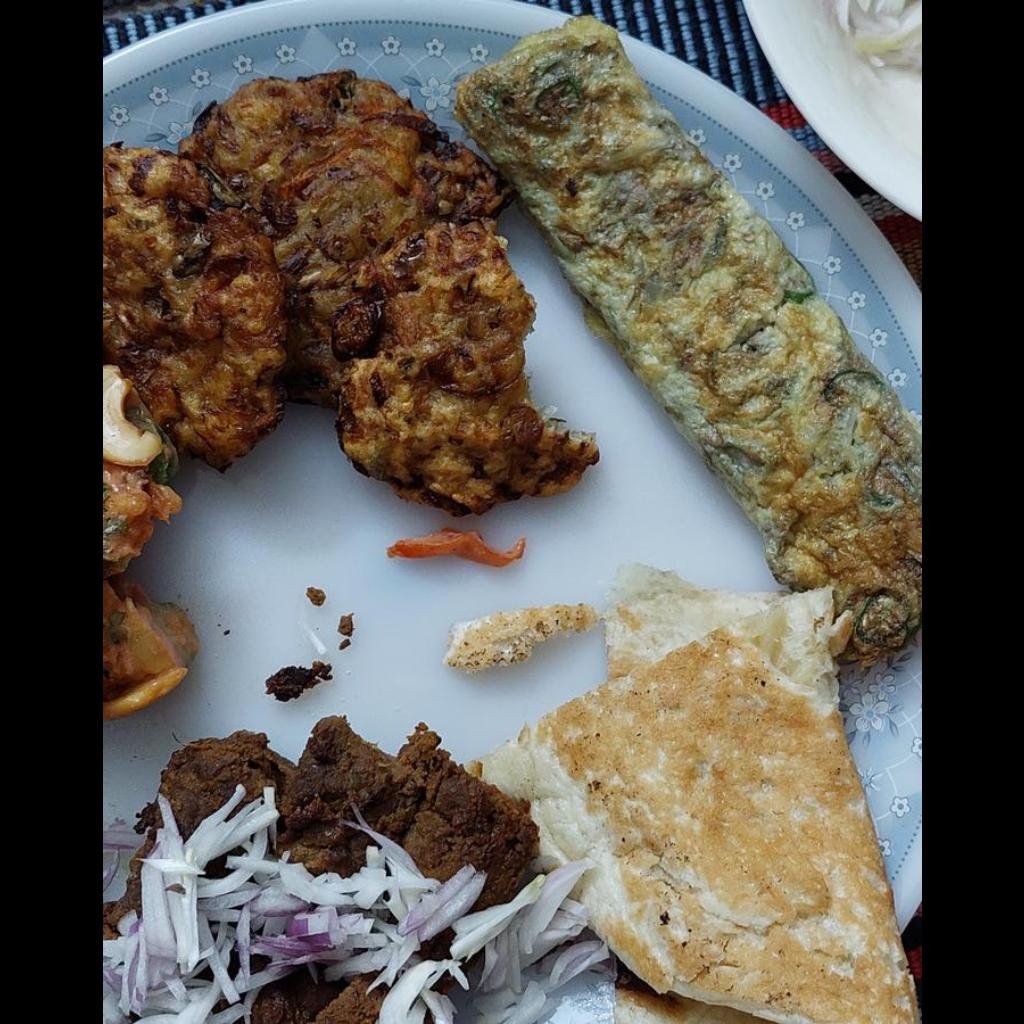beef: (138, 719, 538, 891)
chicken: (102, 365, 196, 718)
egg-poached: (455, 13, 920, 671)
piyaju: (102, 73, 596, 511)
ruti: (442, 585, 915, 1022)
salad: (102, 807, 625, 1023)
